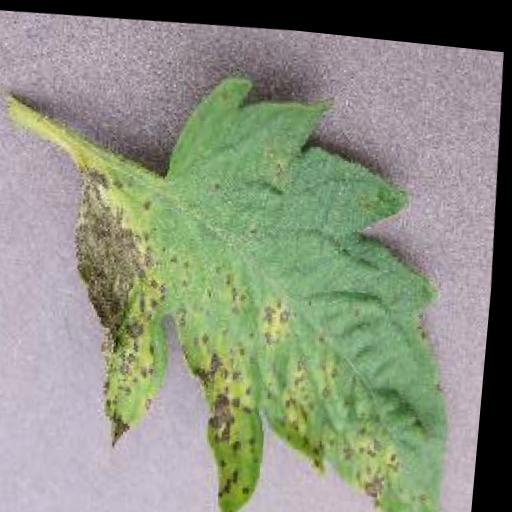Septoria: (47, 47, 484, 512)
